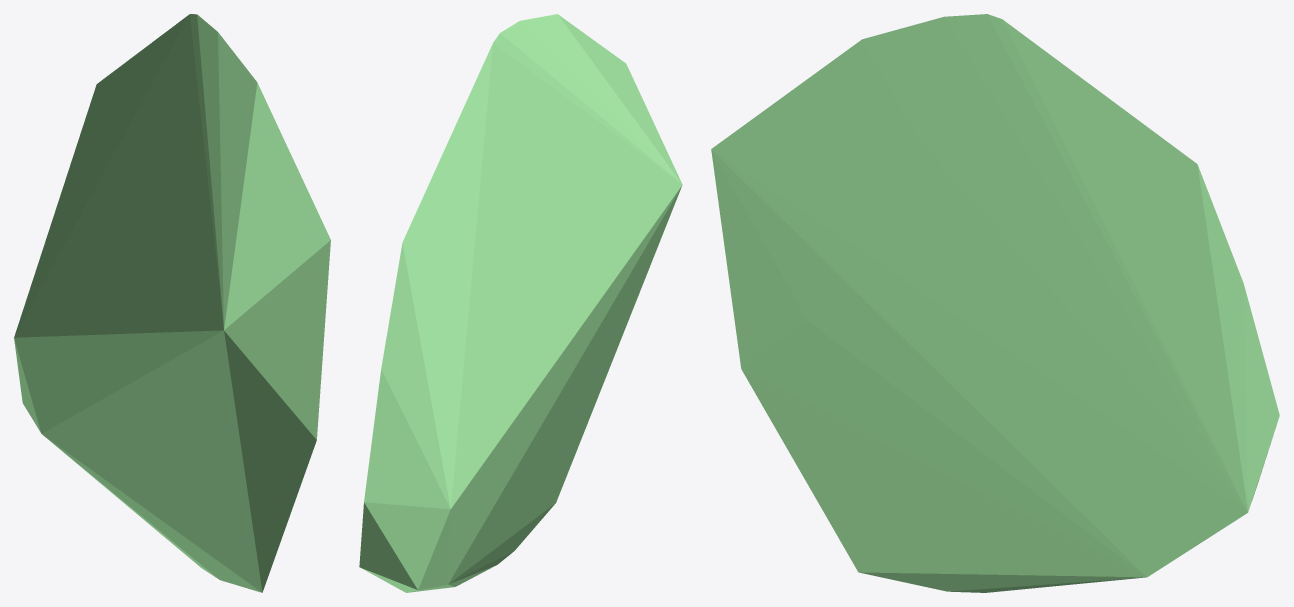
Rendered from linkhou_LR4_R560_link6_respondable_coll_36.dae.
3 renders of one model, left to right at view 1: azimuth 30°, elevation 25°; view 2: azimuth 150°, elevation 25°; view 3: azimuth 270°, elevation 25°, orthographic. The views are drawn at different scales.
Parts seen in each view (by area): view 1: Node_00000209DB3AD520; view 2: Node_00000209DB3AD520; view 3: Node_00000209DB3AD520.
Boxes of the visible parts, x1,y1,x2,y2 form: Node_00000209DB3AD520: (14, 14, 330, 592); Node_00000209DB3AD520: (359, 14, 682, 592); Node_00000209DB3AD520: (711, 14, 1279, 592).
Size of the model in its own units: 0.0135 by 0.07 by 0.0625.
